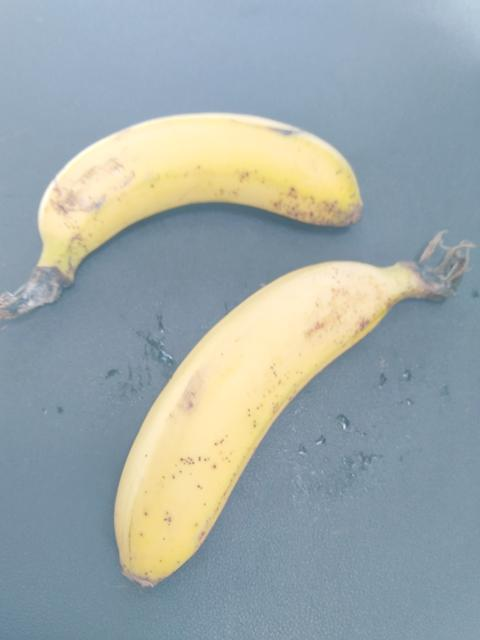ripe: (82, 247, 411, 616), (34, 90, 380, 303)
